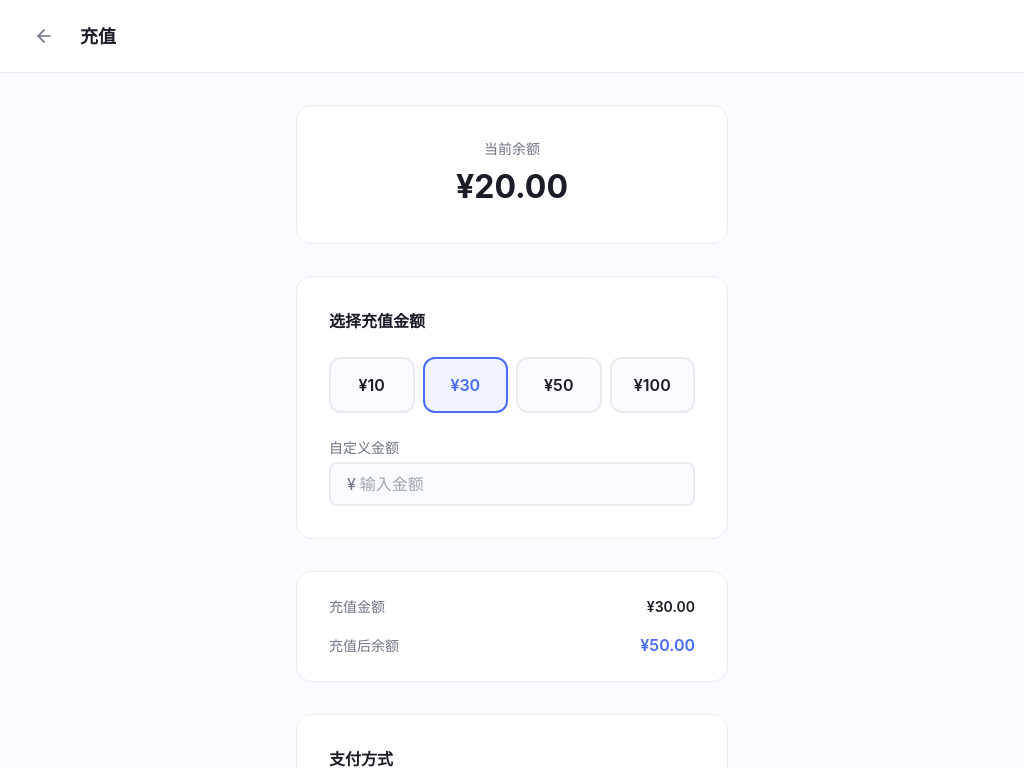
RechargePage › selects preset amount on click
Click the button with class "amount-option" showing "¥50" at (559, 385), box [516,357,602,413]
(page scrolled)
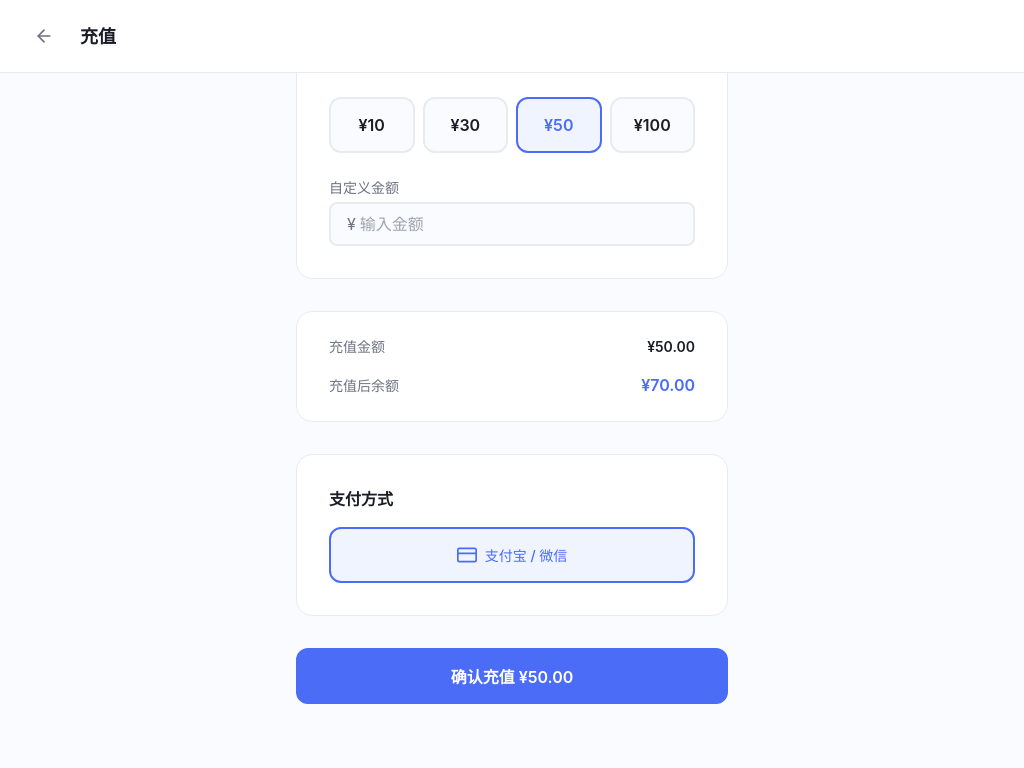
Result: the button with class "btn-confirm" shows "¥50.00" at [296,648,728,704]
